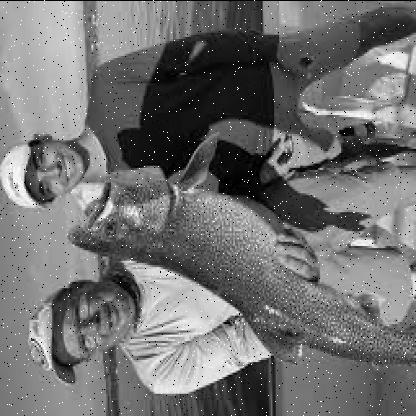fish: (68, 125, 414, 379)
